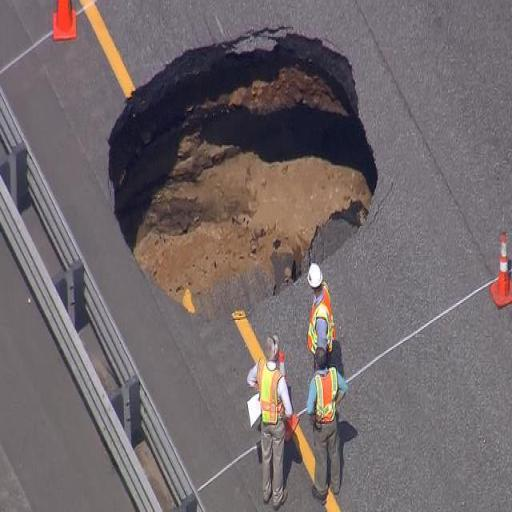Concentric_Crack: (109, 30, 377, 316)
